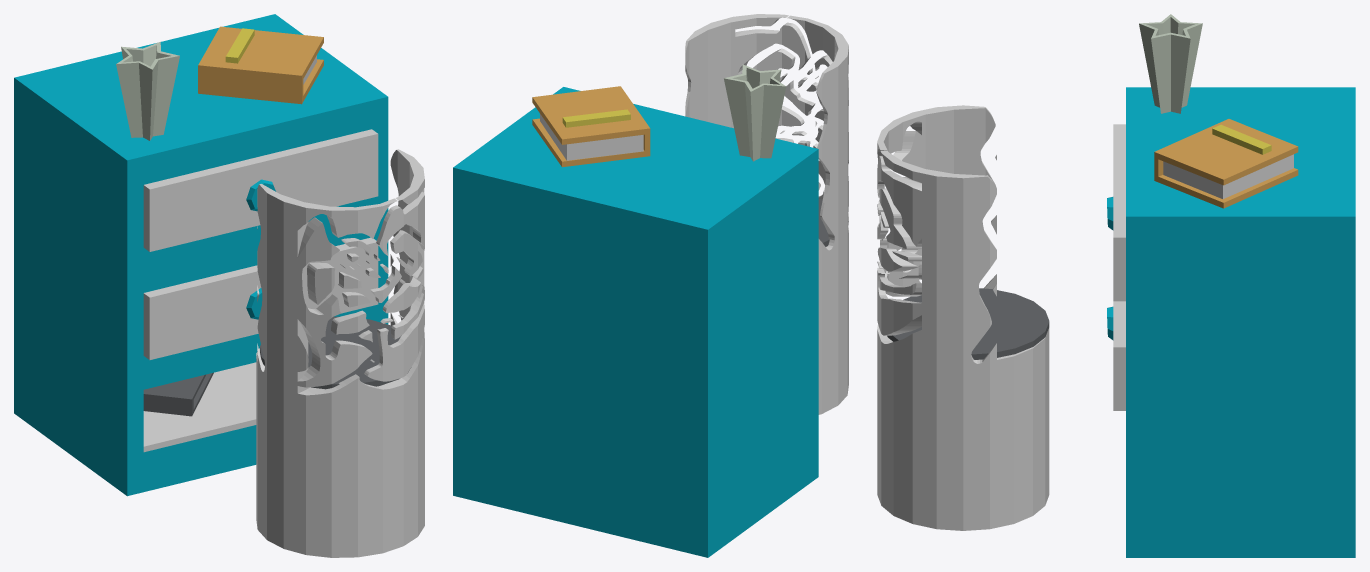
File: SideTableModel.glb
The picture shows the model from 3 angles, left to right: view 1: azimuth 30°, elevation 25°; view 2: azimuth 150°, elevation 25°; view 3: azimuth 270°, elevation 25°; orthographic projection. The views are drawn at different scales.
Visible parts, largest first — view 1: Mesh_Mesh_head_geo.001_lambert2SG.001; view 2: Mesh_Mesh_head_geo.001_lambert2SG.001; view 3: Mesh_Mesh_head_geo.001_lambert2SG.001.
Boxes of the visible parts, bbox=[...] form: Mesh_Mesh_head_geo.001_lambert2SG.001: bbox=[14, 14, 424, 557]; Mesh_Mesh_head_geo.001_lambert2SG.001: bbox=[453, 14, 848, 557]; Mesh_Mesh_head_geo.001_lambert2SG.001: bbox=[877, 14, 1355, 557].
Bounding box in the file's own units: 48 × 73 × 75.
